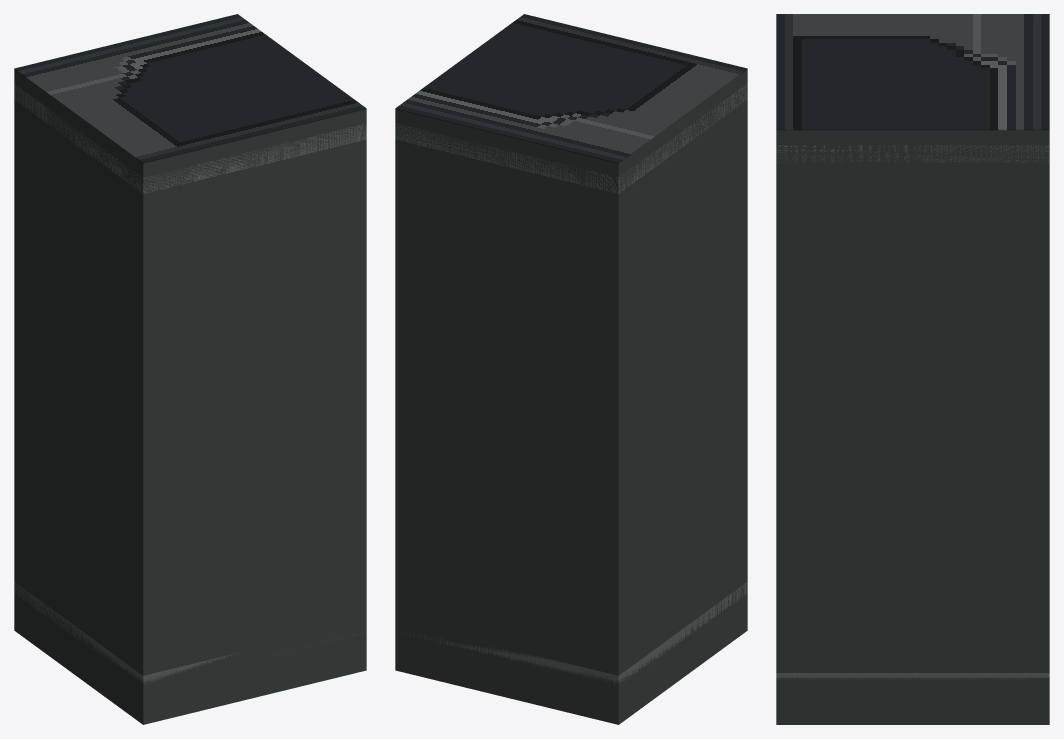
Rendered from CMU3DInteriorVehicleAPCRearWheelL.glb.
3 views of the same model, side by side, from view 1: azimuth 30°, elevation 25°; view 2: azimuth 150°, elevation 25°; view 3: azimuth 270°, elevation 25° (orthographic). The views are drawn at different scales.
Visible parts, largest first — view 1: cabin bulkhead, cabin bulkhead source finish, upper armor trim, lower armor trim; view 2: cabin bulkhead, cabin bulkhead source finish, upper armor trim, lower armor trim; view 3: cabin bulkhead, cabin bulkhead source finish, lower armor trim, upper armor trim.
Part boxes in pixels (<box>): cabin bulkhead: <box>14,69,366,724</box>; cabin bulkhead source finish: <box>14,14,366,163</box>; upper armor trim: <box>14,83,366,193</box>; lower armor trim: <box>14,582,366,684</box>; cabin bulkhead: <box>395,69,747,724</box>; cabin bulkhead source finish: <box>395,14,747,163</box>; upper armor trim: <box>395,83,747,193</box>; lower armor trim: <box>401,582,747,684</box>; cabin bulkhead: <box>776,130,1049,724</box>; cabin bulkhead source finish: <box>776,14,1049,130</box>; lower armor trim: <box>776,673,1049,679</box>; upper armor trim: <box>776,145,1049,162</box>.
Size of the model in its own units: 1 by 2.4 by 1.
Materials: 4 (1 with a texture image).
